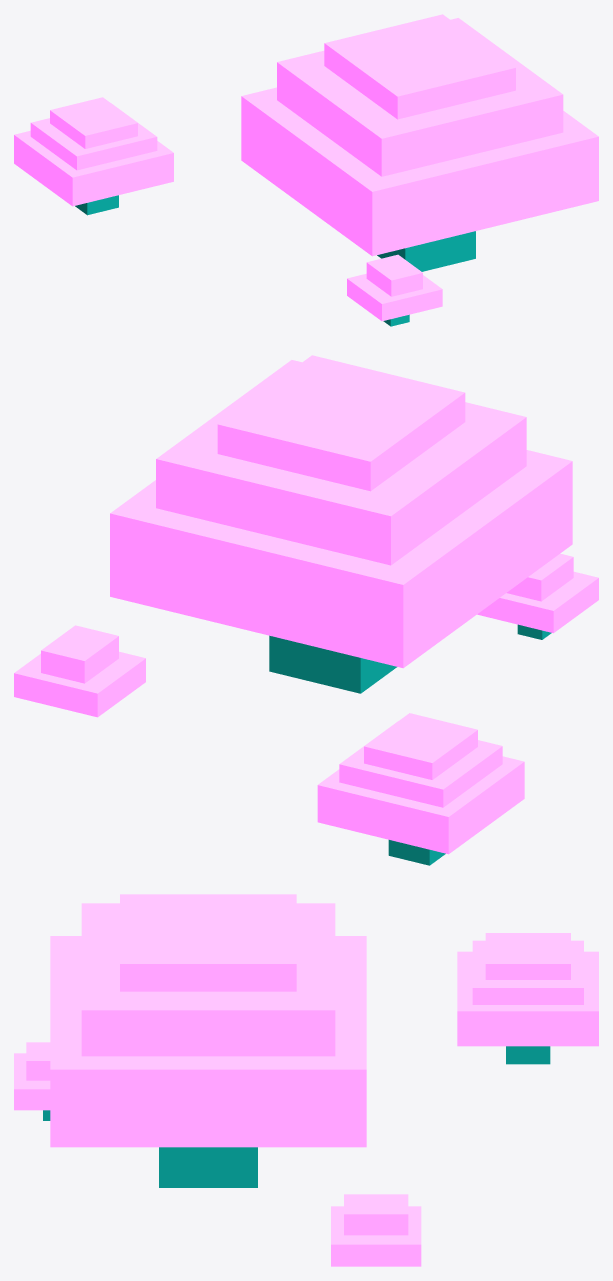
File: Purple Mushroom Patch 1.glb
3 renders of one model, top to bottom at view 1: azimuth 30°, elevation 25°; view 2: azimuth 150°, elevation 25°; view 3: azimuth 270°, elevation 25°, orthographic. The views are drawn at different scales.
Parts seen in each view (by area): view 1: Cube.001, Cube.012, Cube.002, Cube.004, Cube.003, Cube.011, Cube.009, Cube, Cube.010, Cube.005; view 2: Cube.001, Cube.012, Cube.002, Cube.004, Cube.003, Cube.011, Cube.006, Cube, Cube.009, Cube.007, Cube.010, Cube.005; view 3: Cube.001, Cube.012, Cube.002, Cube.004, Cube, Cube.003, Cube.011, Cube.006, Cube.007, Cube.009, Cube.010, Cube.005.
Boxes of the visible parts, x1=… form: Cube.001: x1=241, y1=87, x2=598, y2=256; Cube.012: x1=277, y1=18, x2=563, y2=176; Cube.002: x1=324, y1=14, x2=515, y2=119; Cube.004: x1=14, y1=130, x2=173, y2=206; Cube.003: x1=50, y1=97, x2=137, y2=148; Cube.011: x1=30, y1=103, x2=157, y2=170; Cube.009: x1=347, y1=273, x2=442, y2=321; Cube: x1=377, y1=231, x2=475, y2=271; Cube.010: x1=366, y1=254, x2=422, y2=296; Cube.005: x1=75, y1=195, x2=118, y2=215; Cube.001: x1=110, y1=450, x2=572, y2=668; Cube.012: x1=156, y1=360, x2=526, y2=565; Cube.002: x1=217, y1=355, x2=465, y2=491; Cube.004: x1=317, y1=756, x2=524, y2=854; Cube.003: x1=364, y1=713, x2=477, y2=779; Cube.011: x1=339, y1=721, x2=502, y2=807; Cube.006: x1=14, y1=651, x2=145, y2=717; Cube: x1=269, y1=635, x2=396, y2=693; Cube.009: x1=477, y1=571, x2=598, y2=633; Cube.007: x1=41, y1=625, x2=118, y2=683; Cube.010: x1=507, y1=553, x2=573, y2=601; Cube.005: x1=388, y1=840, x2=445, y2=865; Cube.001: x1=50, y1=936, x2=366, y2=1147; Cube.012: x1=81, y1=903, x2=335, y2=1056; Cube.002: x1=120, y1=894, x2=296, y2=991; Cube.004: x1=457, y1=951, x2=598, y2=1046; Cube: x1=159, y1=1147, x2=257, y2=1187; Cube.003: x1=485, y1=933, x2=570, y2=979; Cube.011: x1=472, y1=940, x2=583, y2=1004; Cube.006: x1=331, y1=1206, x2=421, y2=1266; Cube.007: x1=344, y1=1194, x2=408, y2=1235; Cube.009: x1=14, y1=1053, x2=50, y2=1110; Cube.010: x1=26, y1=1042, x2=50, y2=1080; Cube.005: x1=506, y1=1046, x2=550, y2=1064.
Bounding box in the file's own units: 0.5699 × 0.2643 × 0.5833.
